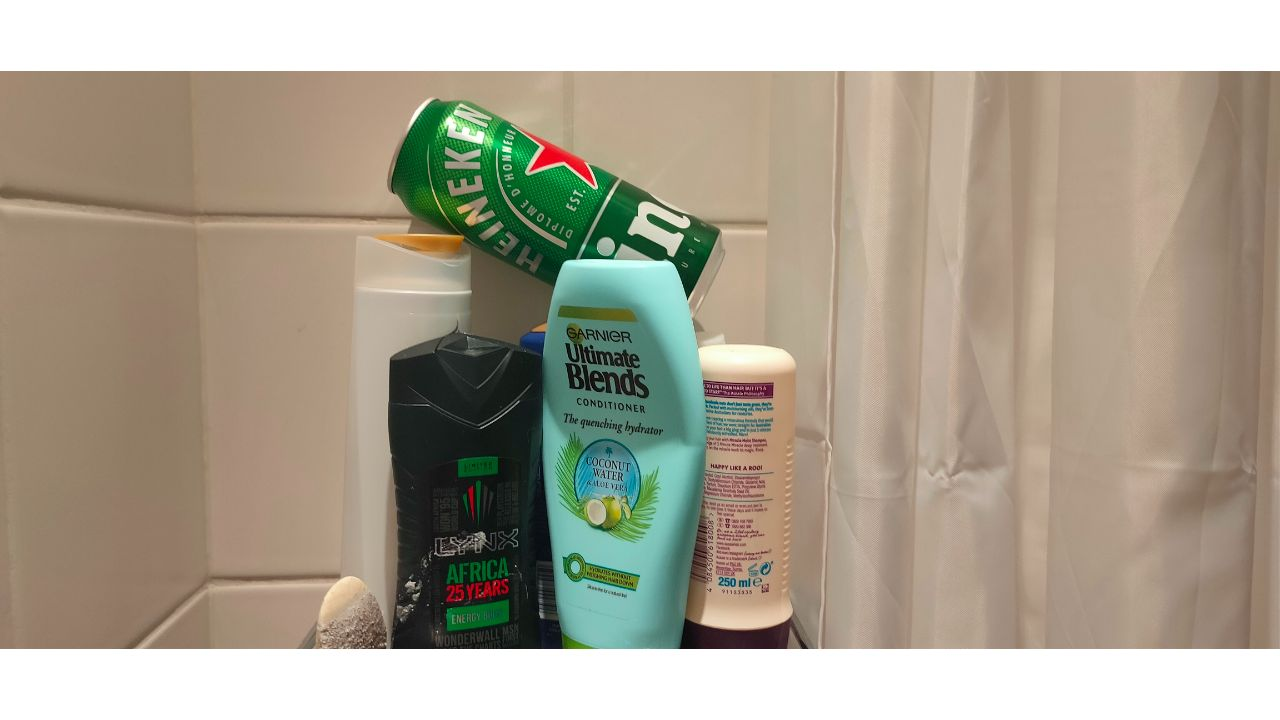Can: (384, 99, 727, 318)
